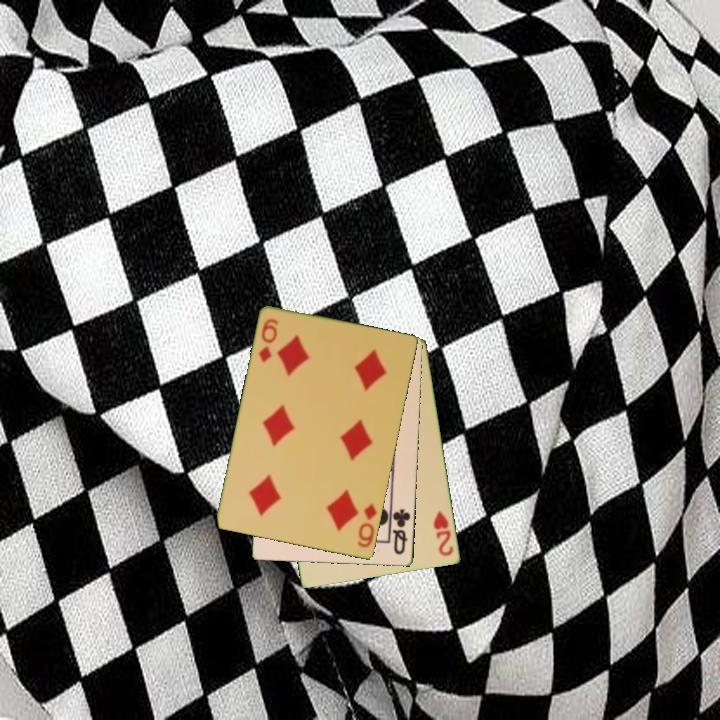2h: (430, 508, 456, 559)
6d: (354, 500, 380, 551), (255, 315, 281, 365)
Qc: (390, 506, 413, 557)
